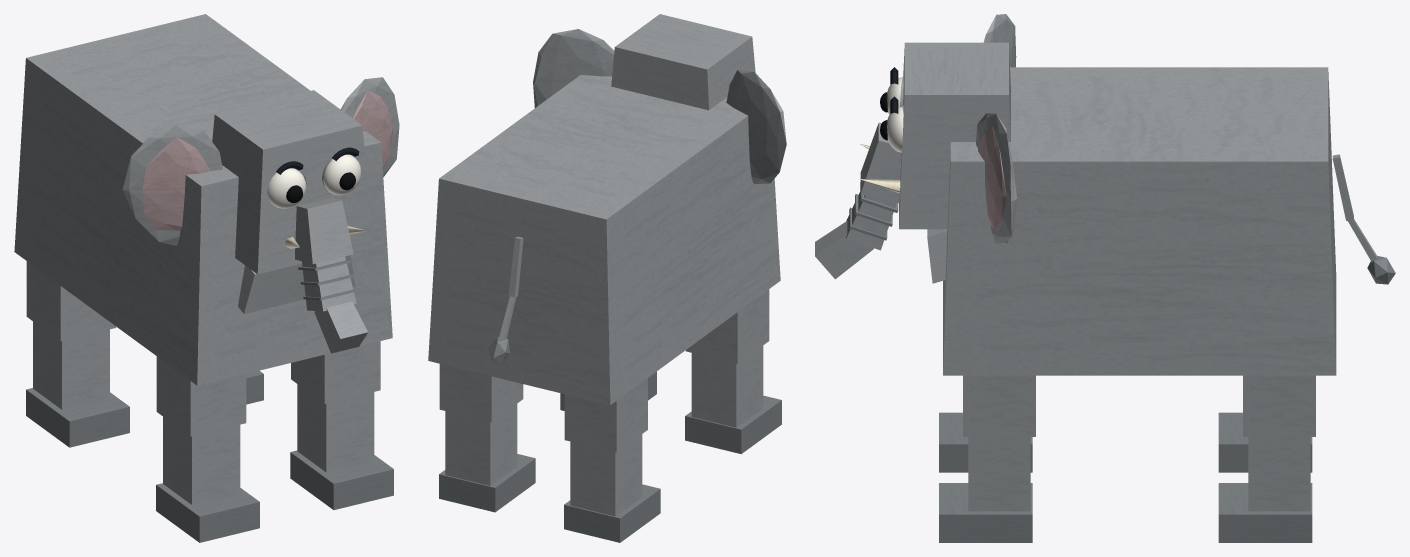
The model's file is elephant.glb.
3 renders of one model, left to right at view 1: azimuth 30°, elevation 25°; view 2: azimuth 150°, elevation 25°; view 3: azimuth 270°, elevation 25°, orthographic. The views are drawn at different scales.
Visible parts, largest first — view 1: body, head, kneeFL, kneeFR, kneeBR, earR, legFR, legFL, legBR, trunk0, earL, neck (+3 smaller); view 2: body, head, kneeBR, kneeFR, kneeBL, legBR, earR, earL, legBL, legFR, tail2, tail; view 3: body, head, kneeBL, kneeFL, legFL, legBL, earL, trunk1, trunk0, kneeBR, kneeFR, trunk2 (+3 smaller).
Boxes of the visible parts, x1=… form: body: x1=14, y1=14, x2=392, y2=385; head: x1=212, y1=90, x2=372, y2=274; kneeFL: x1=290, y1=384, x2=393, y2=509; kneeFR: x1=156, y1=417, x2=259, y2=542; kneeBR: x1=26, y1=321, x2=129, y2=447; earR: x1=122, y1=125, x2=222, y2=245; legFR: x1=156, y1=356, x2=246, y2=436; legFL: x1=291, y1=341, x2=380, y2=403; legBR: x1=26, y1=261, x2=116, y2=341; trunk0: x1=295, y1=197, x2=353, y2=264; earL: x1=340, y1=77, x2=399, y2=176; neck: x1=238, y1=255, x2=355, y2=313; body: x1=428, y1=75, x2=780, y2=405; head: x1=611, y1=14, x2=755, y2=110; kneeBR: x1=564, y1=434, x2=660, y2=542; kneeFR: x1=685, y1=345, x2=781, y2=454; kneeBL: x1=439, y1=404, x2=535, y2=512; legBR: x1=564, y1=378, x2=647, y2=452; earR: x1=726, y1=70, x2=786, y2=183; earL: x1=533, y1=29, x2=614, y2=107; legBL: x1=439, y1=364, x2=523, y2=422; legFR: x1=685, y1=289, x2=769, y2=363; tail2: x1=488, y1=296, x2=516, y2=365; tail: x1=508, y1=236, x2=523, y2=297; body: x1=943, y1=67, x2=1336, y2=375; head: x1=859, y1=42, x2=1010, y2=229; kneeBL: x1=1218, y1=437, x2=1312, y2=542; kneeFL: x1=939, y1=437, x2=1032, y2=542; legFL: x1=963, y1=375, x2=1035, y2=436; legBL: x1=1243, y1=375, x2=1315, y2=436; earL: x1=976, y1=113, x2=1016, y2=243; trunk1: x1=846, y1=182, x2=898, y2=250; trunk0: x1=860, y1=122, x2=901, y2=202; kneeBR: x1=1218, y1=412, x2=1312, y2=472; kneeFR: x1=939, y1=412, x2=1032, y2=472; trunk2: x1=815, y1=221, x2=873, y2=279.
Bounding box in the file's own units: 1.47 × 2.04 × 2.51.
19 materials, 16 textured.
